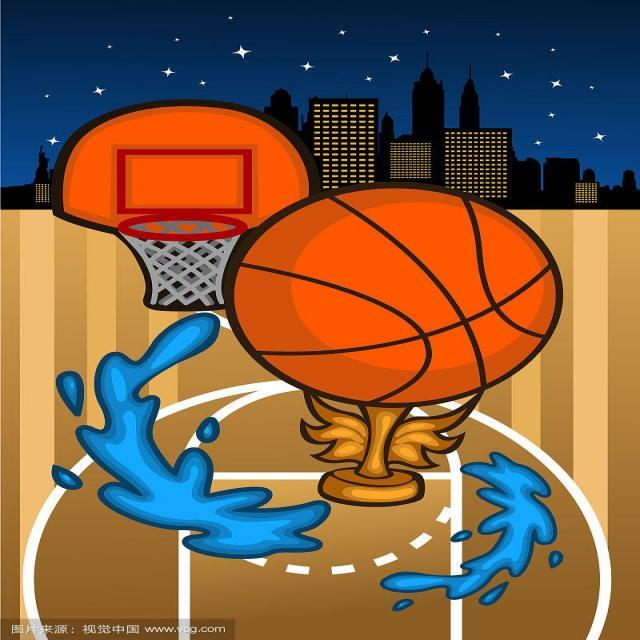rim: (224, 185, 569, 402)
